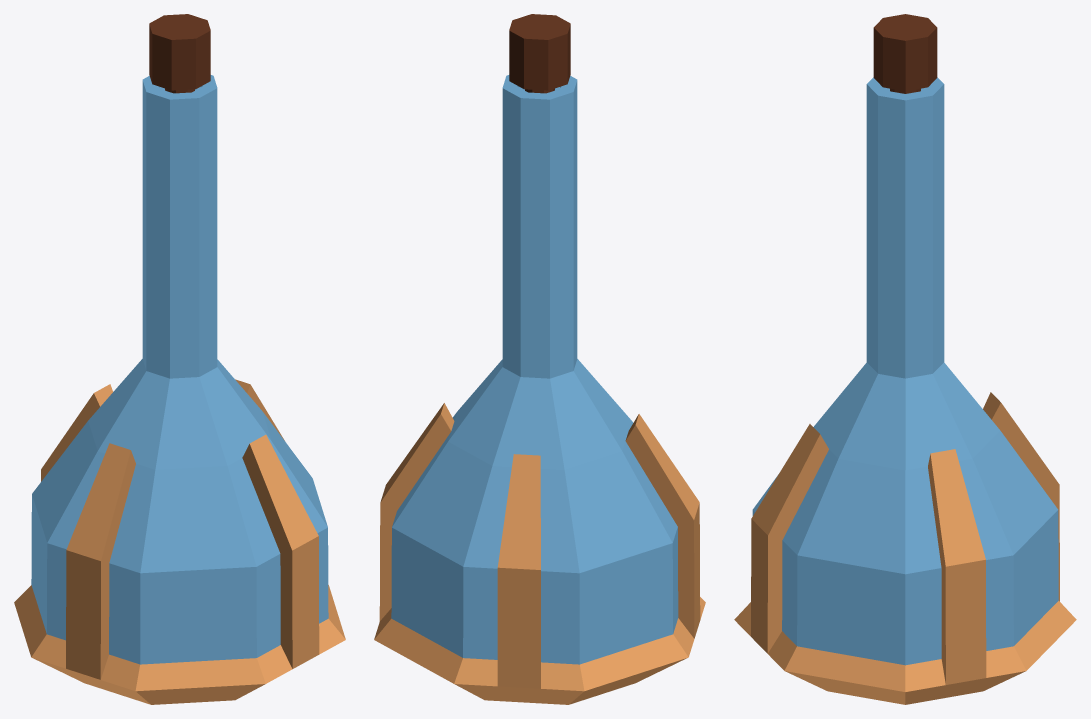
Rendered from potion_ice.glb.
3 renders of one model, left to right at view 1: azimuth 30°, elevation 25°; view 2: azimuth 150°, elevation 25°; view 3: azimuth 270°, elevation 25°, orthographic.
Parts seen in each view (by area): view 1: Potion; view 2: Potion; view 3: Potion.
Part boxes in pixels (bbox=[...]): Potion: bbox=[14, 14, 345, 704]; Potion: bbox=[374, 14, 705, 704]; Potion: bbox=[734, 14, 1076, 704].
Bounding box in the file's own units: 0.5738 × 1.17 × 0.5738.
